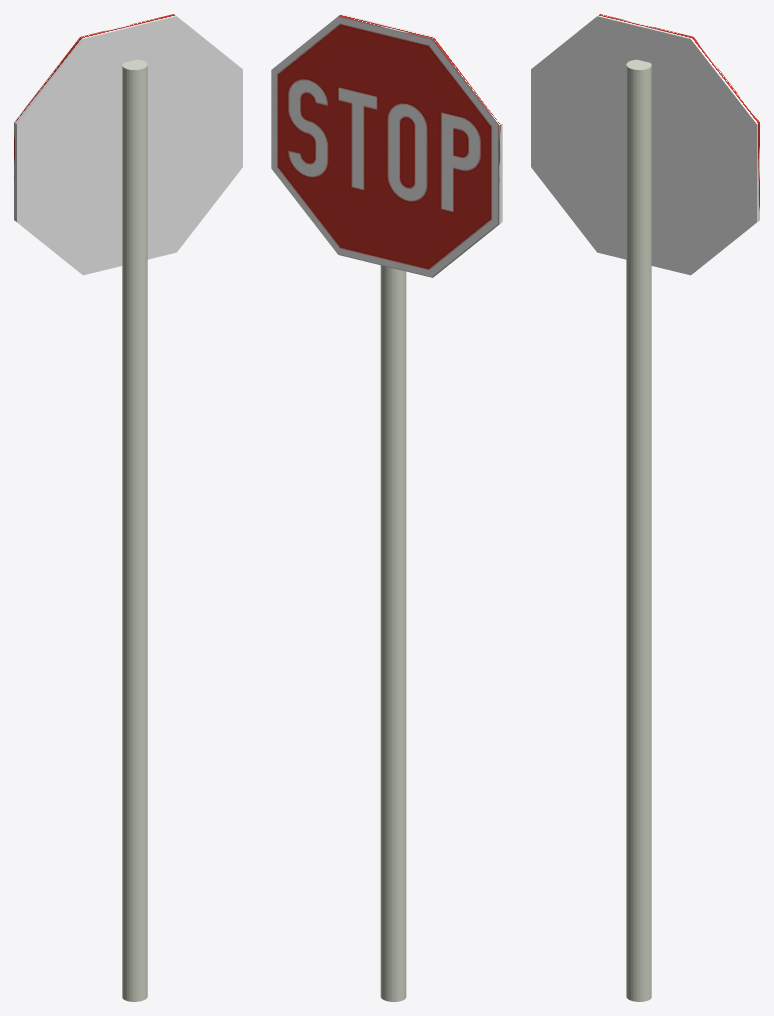
The model's file is stop.dae.
3 views of the same model, side by side, from view 1: azimuth 30°, elevation 25°; view 2: azimuth 150°, elevation 25°; view 3: azimuth 330°, elevation 25° (orthographic).
Parts seen in each view (by area): view 1: Cylinder.001, Cylinder; view 2: Cylinder.001, Cylinder; view 3: Cylinder.001, Cylinder.
Boxes of the visible parts, x1=… form: Cylinder.001: x1=14, y1=14, x2=242, y2=275; Cylinder: x1=122, y1=59, x2=147, y2=1001; Cylinder.001: x1=271, y1=14, x2=502, y2=277; Cylinder: x1=380, y1=265, x2=406, y2=1001; Cylinder.001: x1=531, y1=14, x2=759, y2=275; Cylinder: x1=626, y1=59, x2=651, y2=1001.
Size of the model in its own units: 3.52 by 0.379 by 14.37.
Materials: 2 (1 with a texture image).
